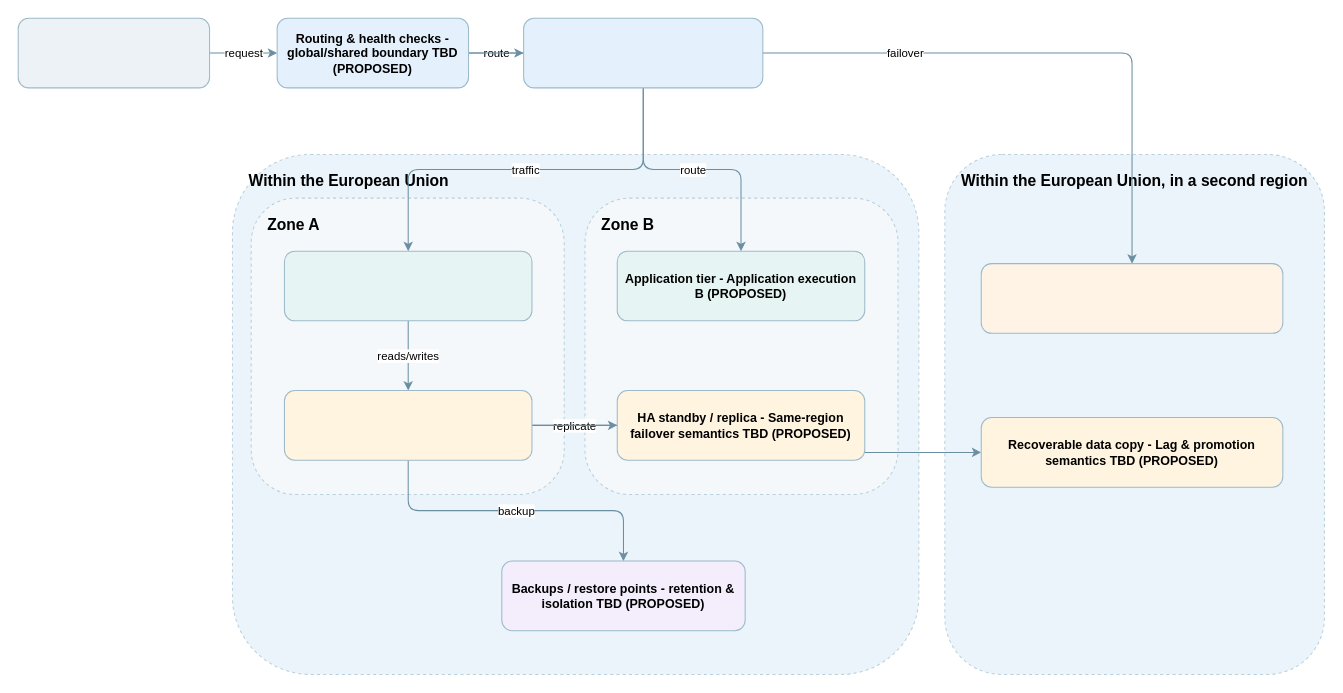
Some shapes in this 1343 by 693 pixel diagram are drawn without their labels. The shapes that lost their labels are listed below. From the top down, each one's centre as x and y in pixels, then its label:
At (x=113, y=52): "Consumers - Product flows from BRD (PROPOSED)".
At (x=643, y=52): "L7 ingress + security - Primary ingress · public candidate (PROPOSED)".
At (x=407, y=285): "Application tier - Application execution A (PROPOSED)".
At (x=1131, y=298): "Recovery app capacity - DR: Pilot Light (PROPOSED)".
At (x=407, y=424): "Relational transactional store - System of record (candidate) (PROPOSED)".
